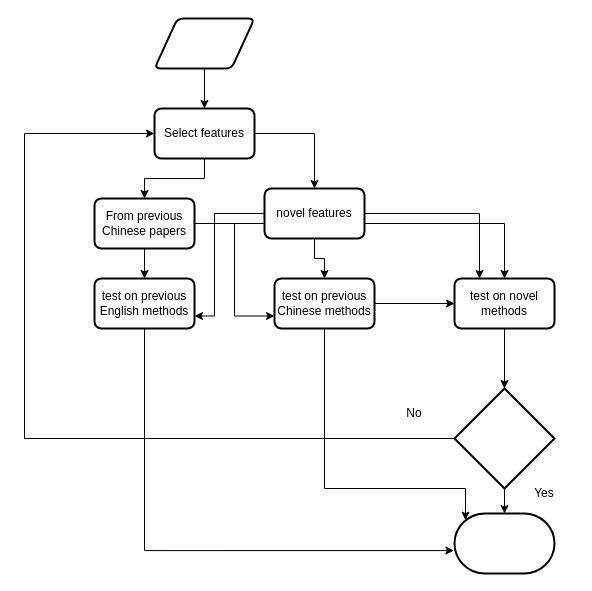
This 592x591 diagram has some shape labels left out. Here are the shapes that lost their labels. From the top down, the box of each, then its label:
(153, 17, 255, 69): song dataset
(453, 387, 555, 489): Is result acceptable and interpretable
(453, 512, 555, 574): Compare and analyze
